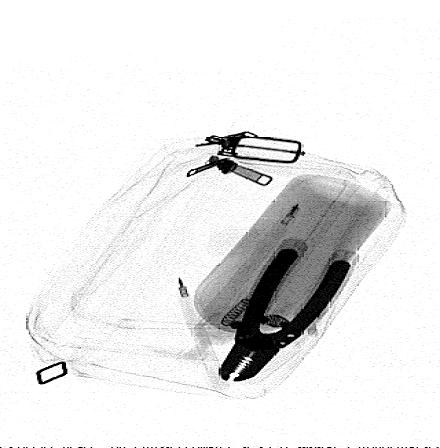Pliers: (215, 247, 355, 383)
